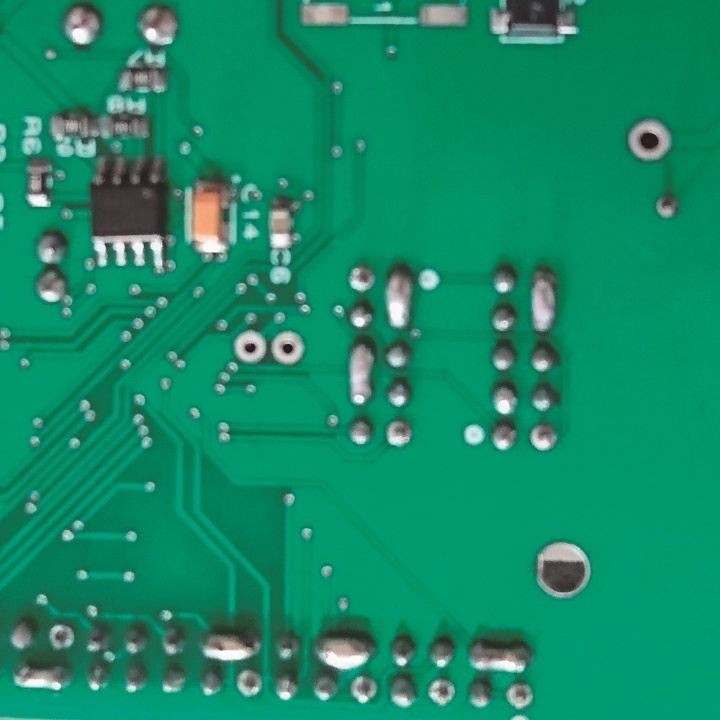F: (626, 118, 676, 163), (270, 328, 307, 367), (231, 329, 267, 364), (528, 422, 560, 456), (504, 680, 536, 711), (346, 264, 377, 295), (350, 674, 379, 707), (427, 675, 456, 707), (48, 622, 76, 655), (386, 417, 413, 450), (235, 668, 263, 699), (653, 192, 681, 220)
P: (310, 629, 376, 671), (466, 638, 533, 678), (525, 263, 559, 335), (385, 261, 417, 335), (11, 661, 72, 697), (200, 629, 261, 663), (344, 339, 368, 406)
